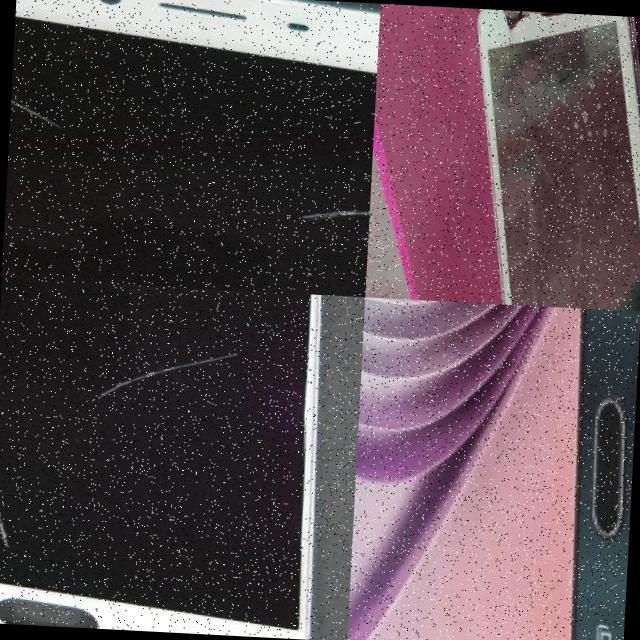scratch: (90, 320, 242, 412), (294, 186, 371, 226), (10, 82, 67, 126), (0, 432, 12, 540)
screen crack: (454, 7, 640, 310)
